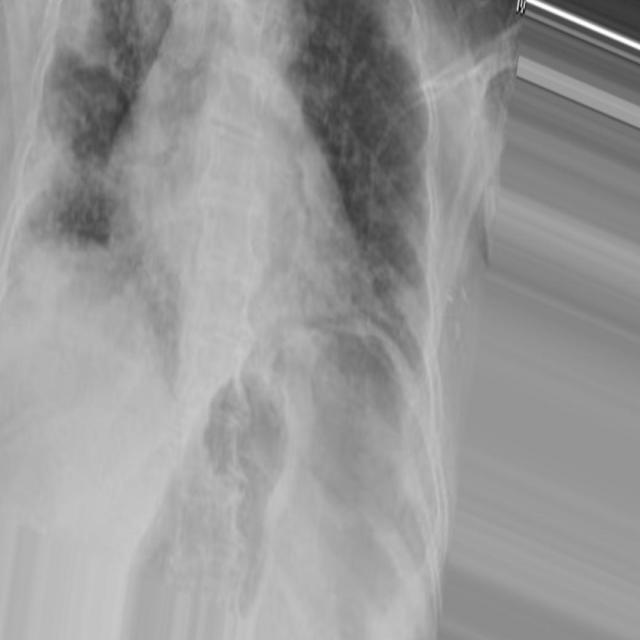coronavirus: (0, 3, 640, 640)
